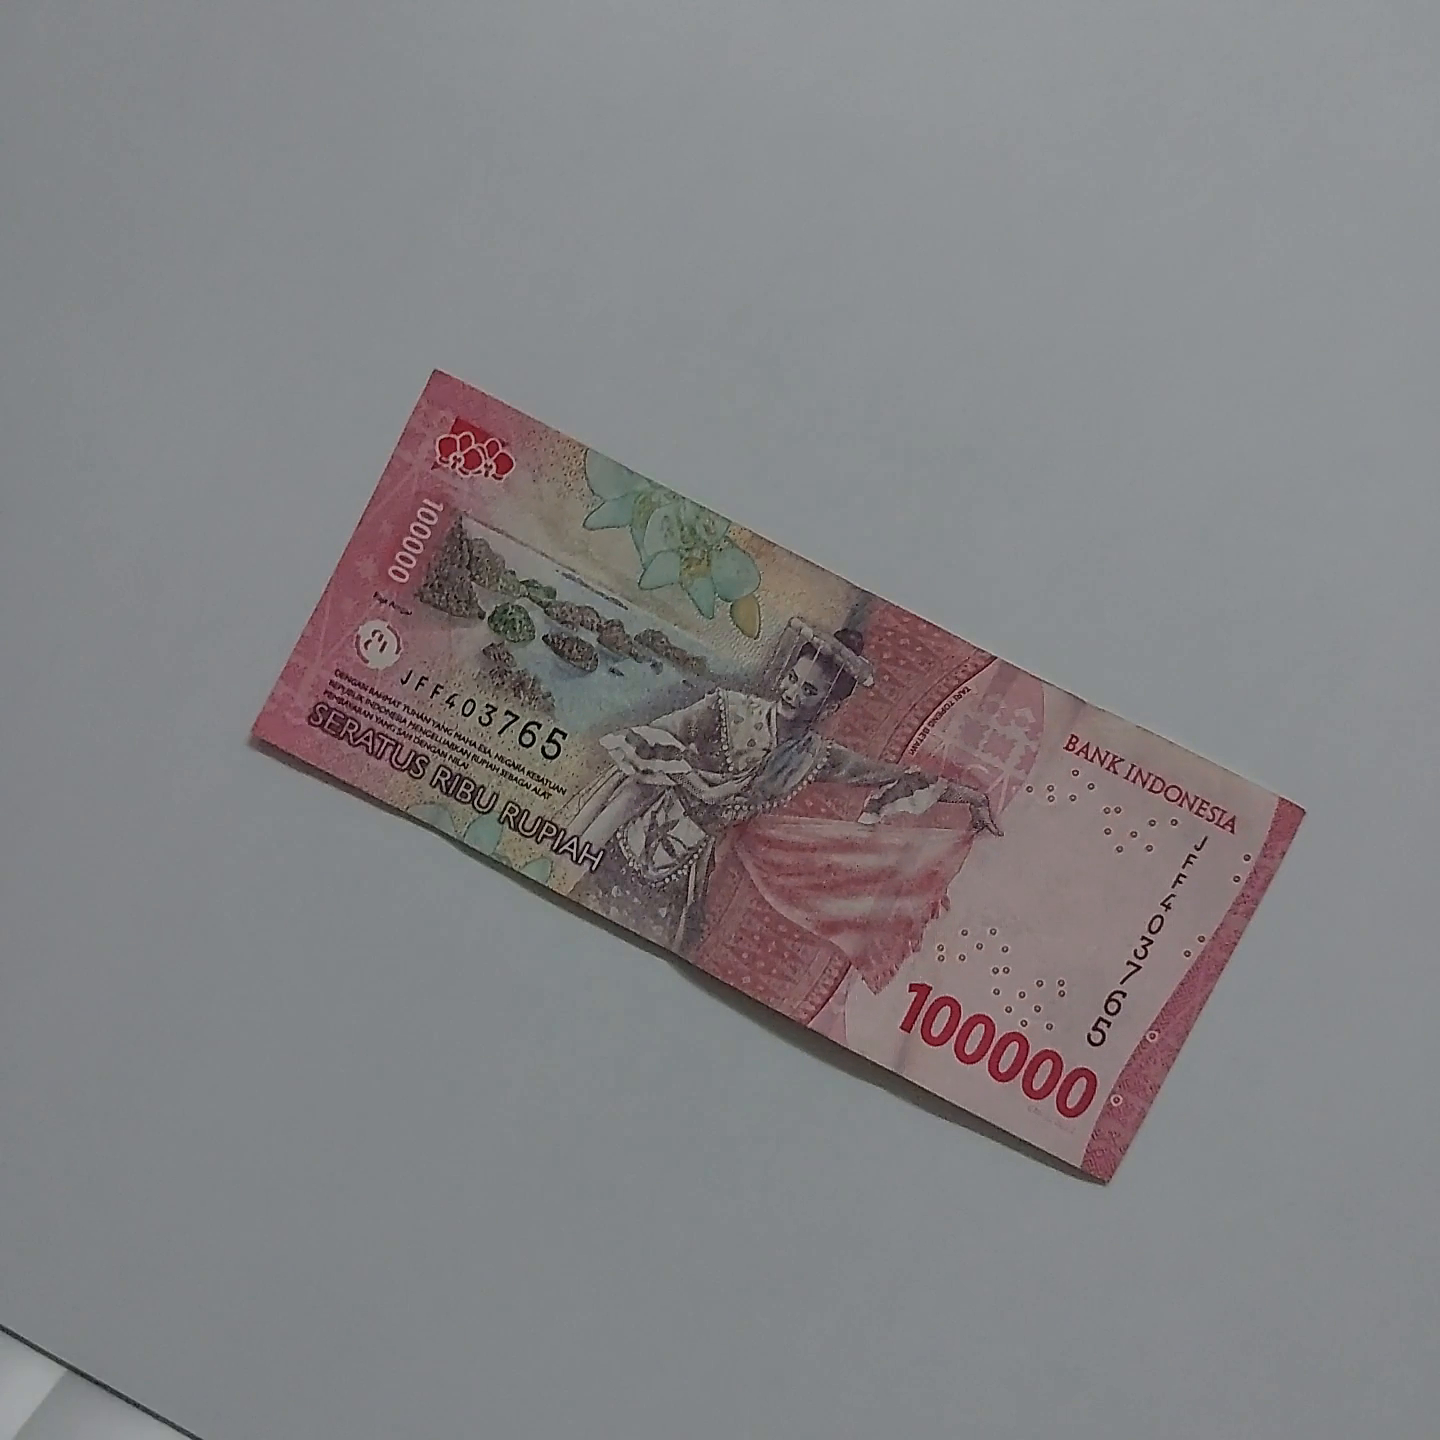100k: (436, 344, 1412, 814)
